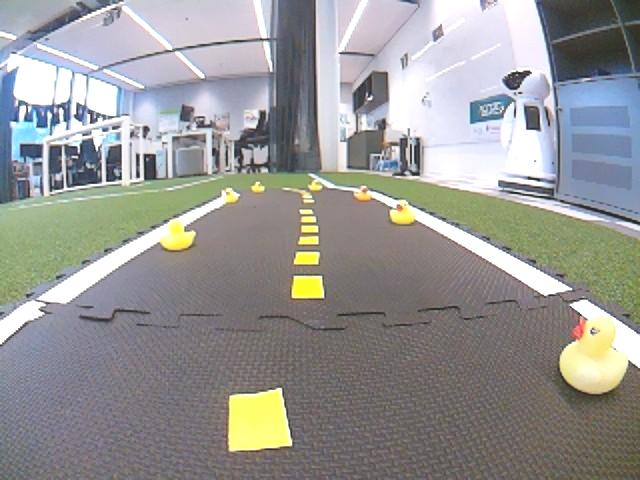Duckies: (559, 315, 629, 393), (162, 220, 196, 250), (390, 200, 417, 226), (354, 185, 371, 201), (224, 187, 239, 202), (308, 178, 322, 192), (251, 181, 265, 191)
